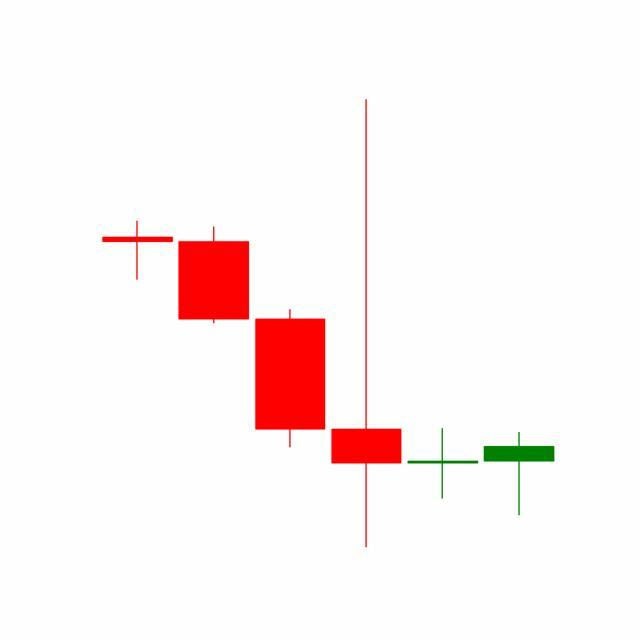Spinning Top: (404, 428, 482, 501)
